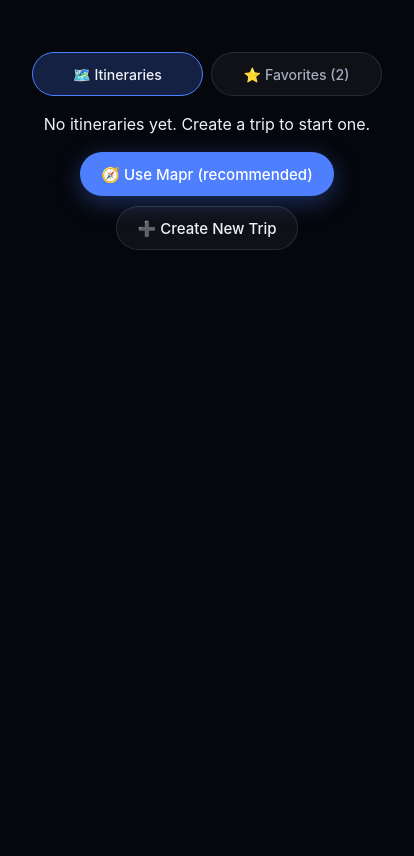
Test: Itinerary sub-tabs › opens on Itineraries; Favorites shows every favorite and filters by city
Check: the text "Vizcaya" is not shown
Click the tab "⭐ Favorites (2)": (296, 74) x1=211 y1=52 x2=382 y2=96
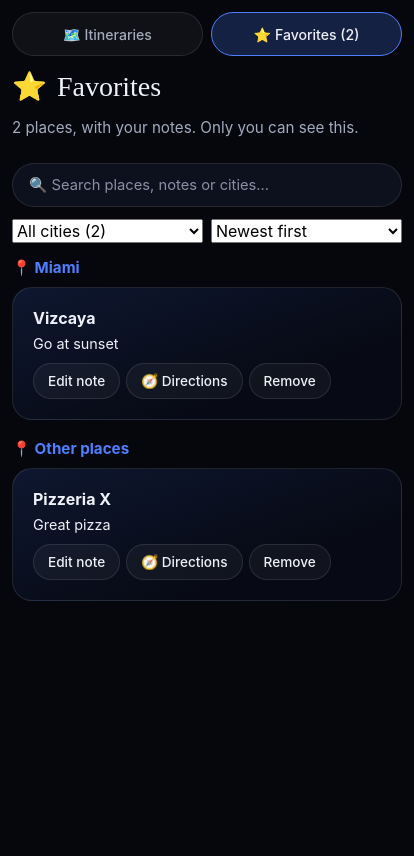
Check: the text "Vizcaya" is shown, box x1=33 y1=308 x2=96 y2=328
Check: the text "Pizzeria X" is shown, box x1=33 y1=489 x2=111 y2=509
Select "Miami (1)" in the dropdown named "Filter by city": (108, 231) x1=12 y1=219 x2=203 y2=243
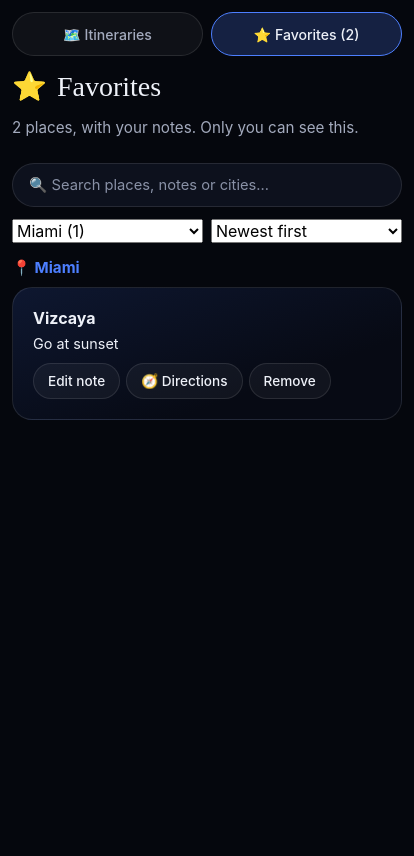
Check: the text "Vizcaya" is shown, box x1=33 y1=308 x2=96 y2=328
Check: the text "Pizzeria X" is gone
Click the tab "🗺️ Itineraries": (108, 34) x1=12 y1=12 x2=203 y2=56
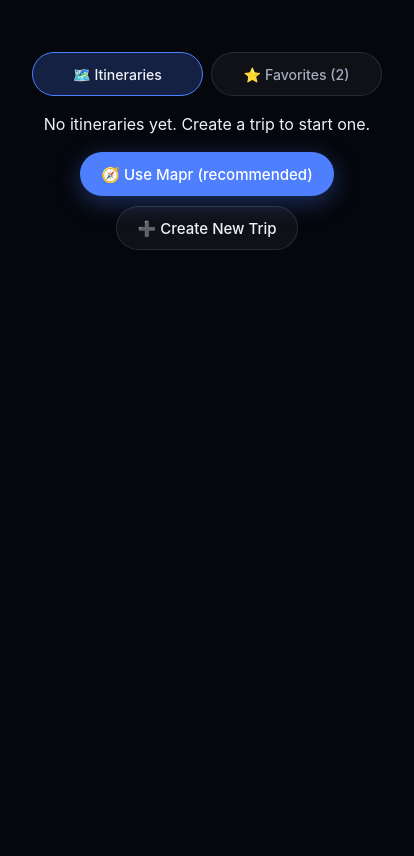
Check: the text "Vizcaya" is gone
